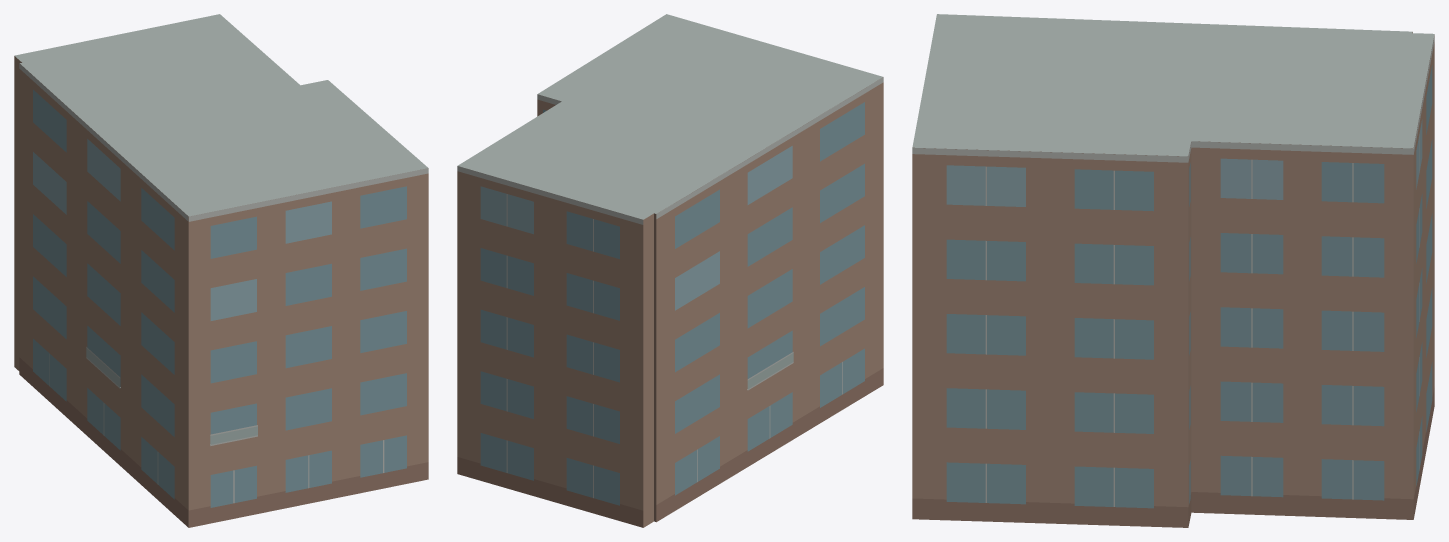
File: survey-upis-33023783.glb
The picture shows the model from 3 angles, left to right: view 1: azimuth 30°, elevation 25°; view 2: azimuth 150°, elevation 25°; view 3: azimuth 270°, elevation 25°; orthographic projection. The views are drawn at different scales.
Visible parts, largest first — view 1: survey-upis-33023783.tmp; view 2: survey-upis-33023783.tmp; view 3: survey-upis-33023783.tmp.
Boxes of the visible parts, x1,y1,x2,y2 form: survey-upis-33023783.tmp: (14, 14, 428, 527); survey-upis-33023783.tmp: (457, 14, 883, 527); survey-upis-33023783.tmp: (912, 14, 1434, 527).
Bounding box in the file's own units: 11.68 × 14.2 × 18.11.
